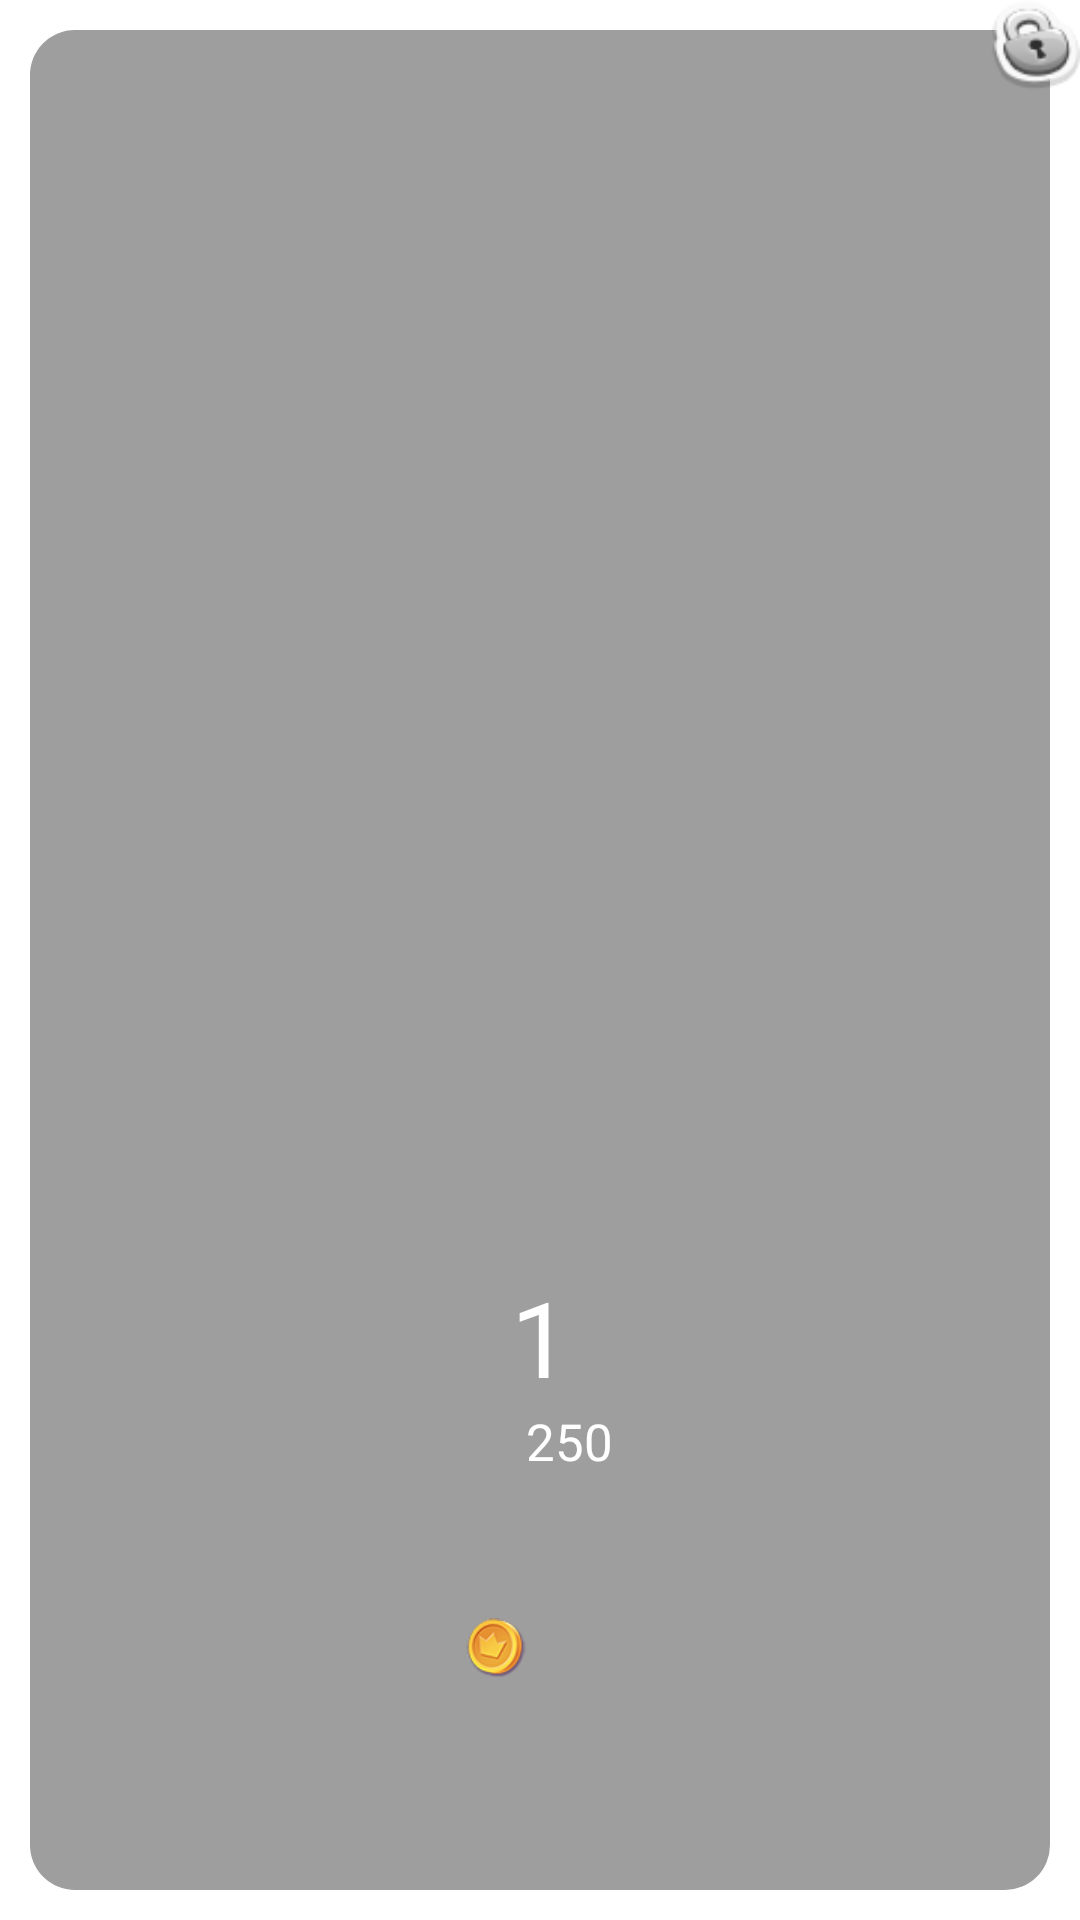

Named icons in this screenshot (1080px x 1920px) and their centers, (x=x, y=y):
locked: (x=1035, y=45)
point: (x=496, y=1647)
